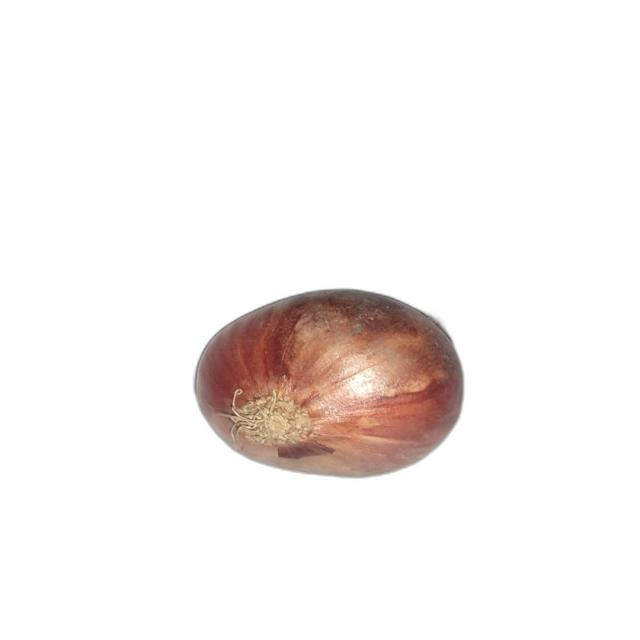onion: (194, 290, 466, 480)
